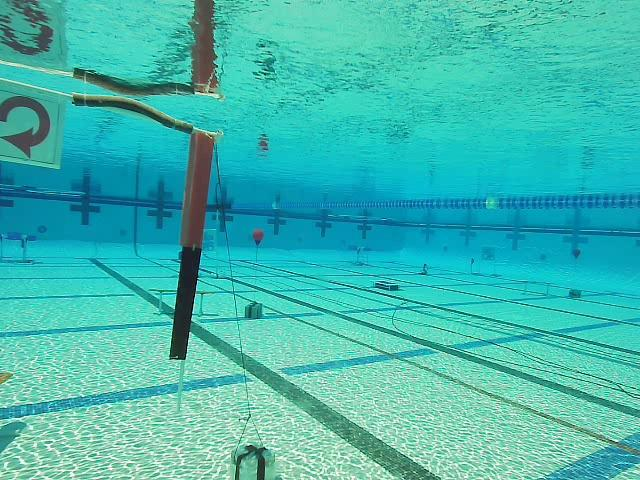buoy: (251, 229, 264, 247)
dropper: (371, 278, 402, 293)
gate_leg_r: (169, 128, 217, 360)
table: (342, 242, 374, 270)
torpedo: (479, 242, 498, 266)
